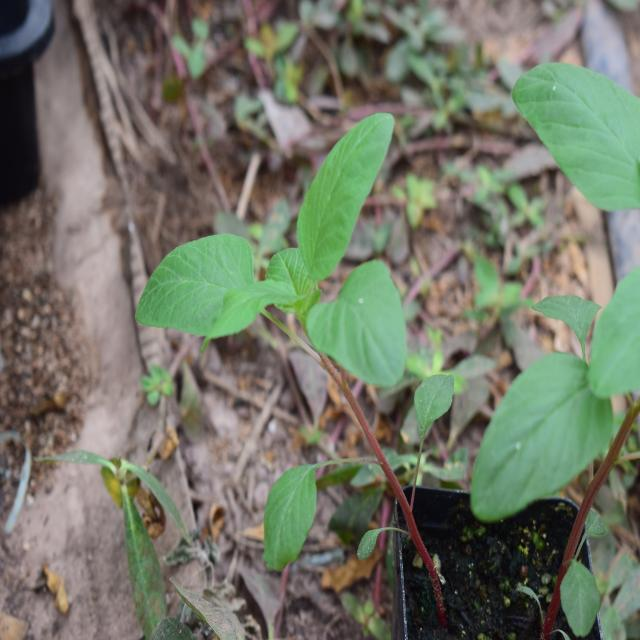pigweed: (134, 125, 434, 429)
